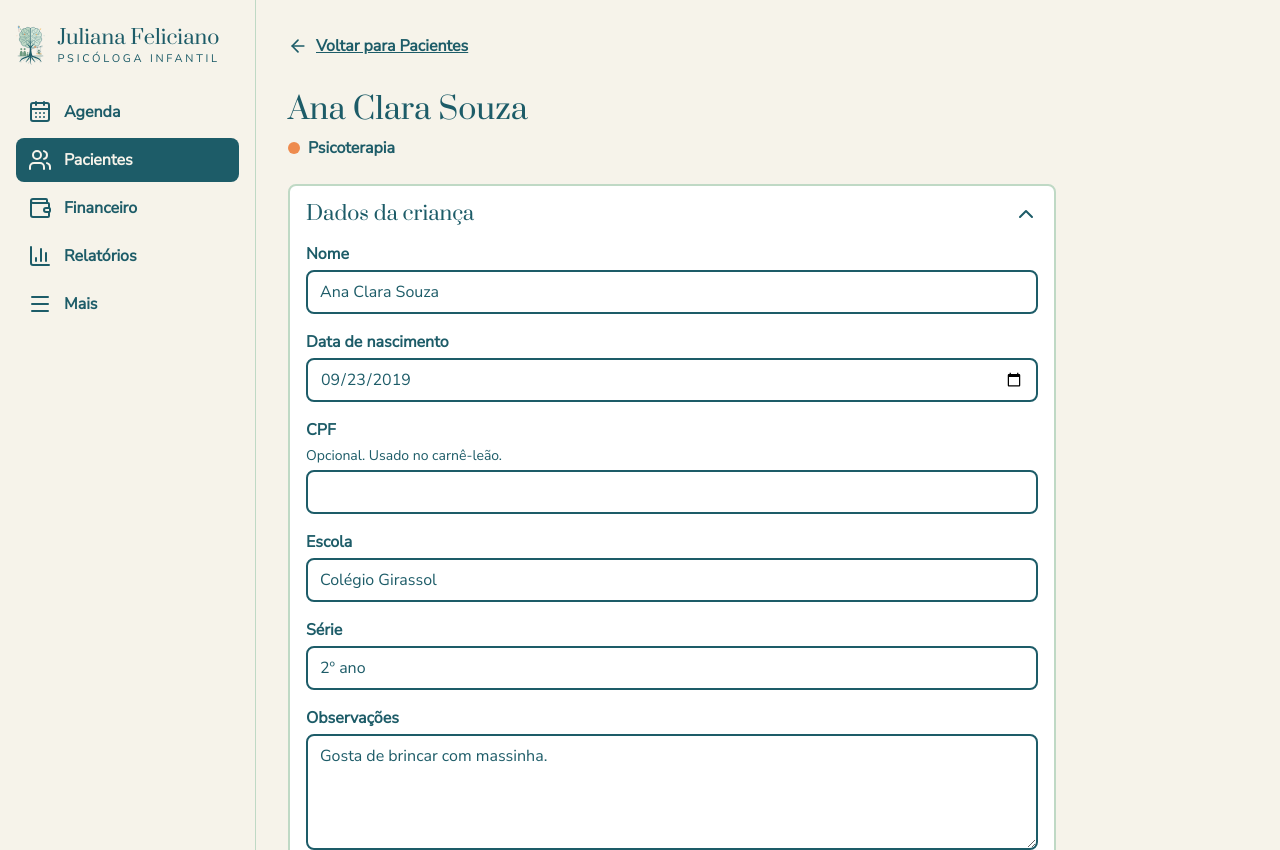
Test case: FichaPaciente — seções recolhíveis › o que foi digitado numa seção fechada não se perde
In the field labelled "Série": (672, 668) [306, 646, 1038, 690], type " B"
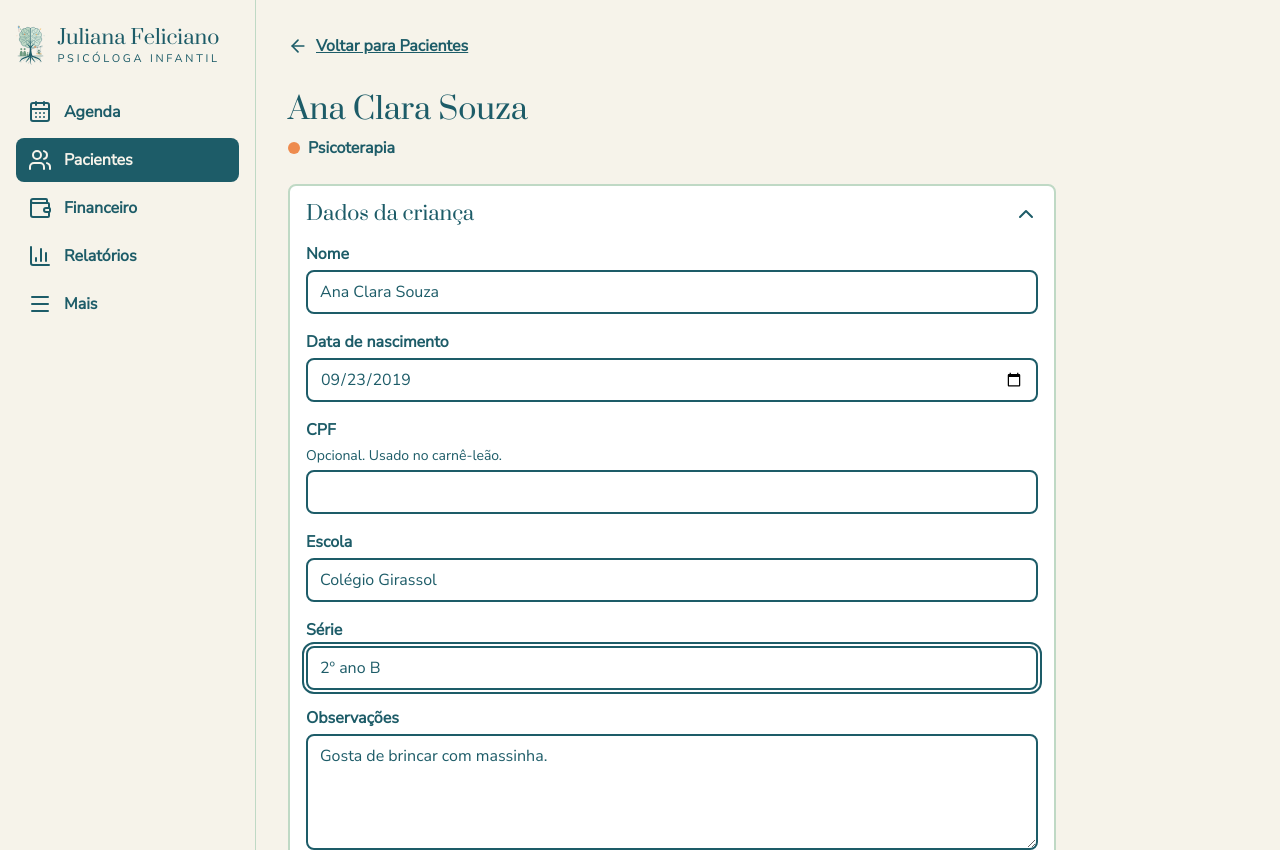
Click the button "Dados da criança": (390, 214) [290, 186, 1054, 242]
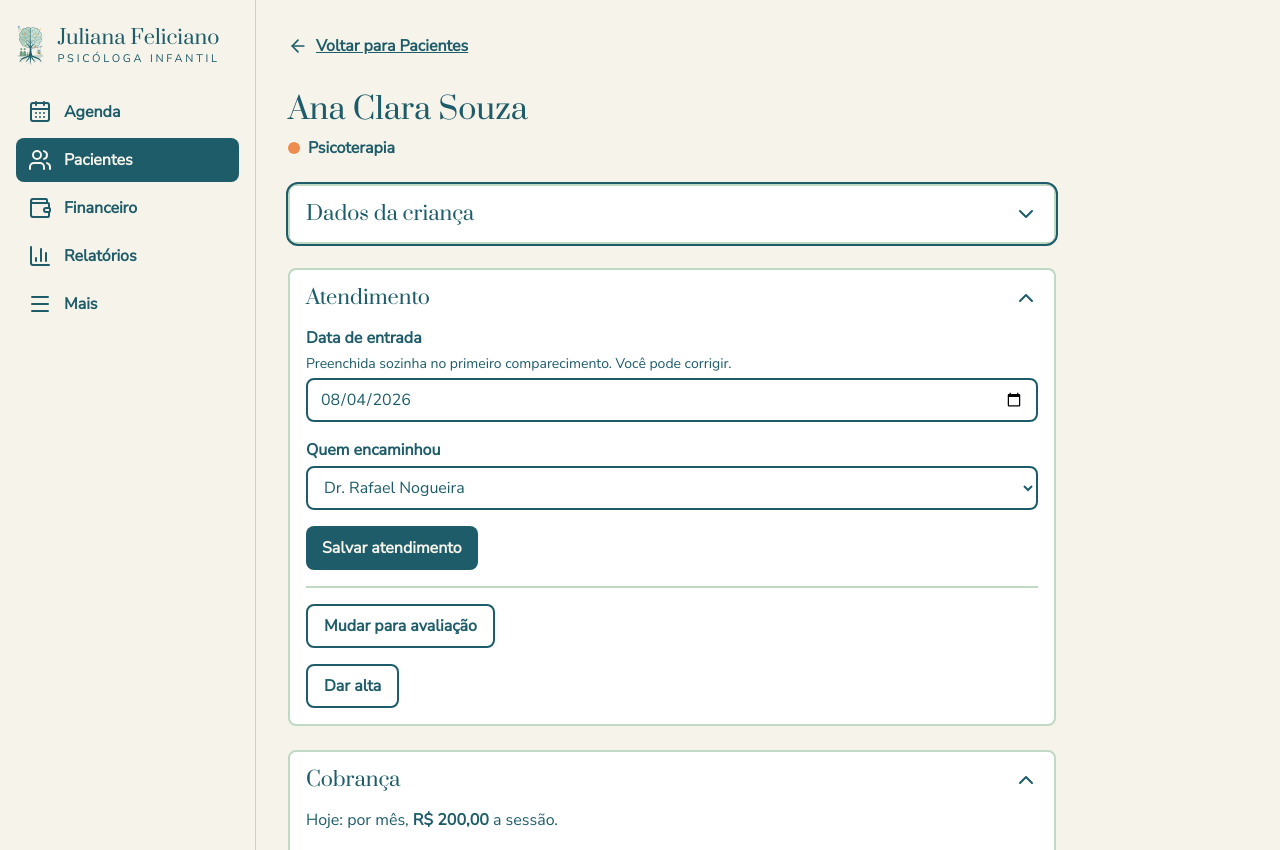
Click the button "Dados da criança": (390, 214) [290, 186, 1054, 242]
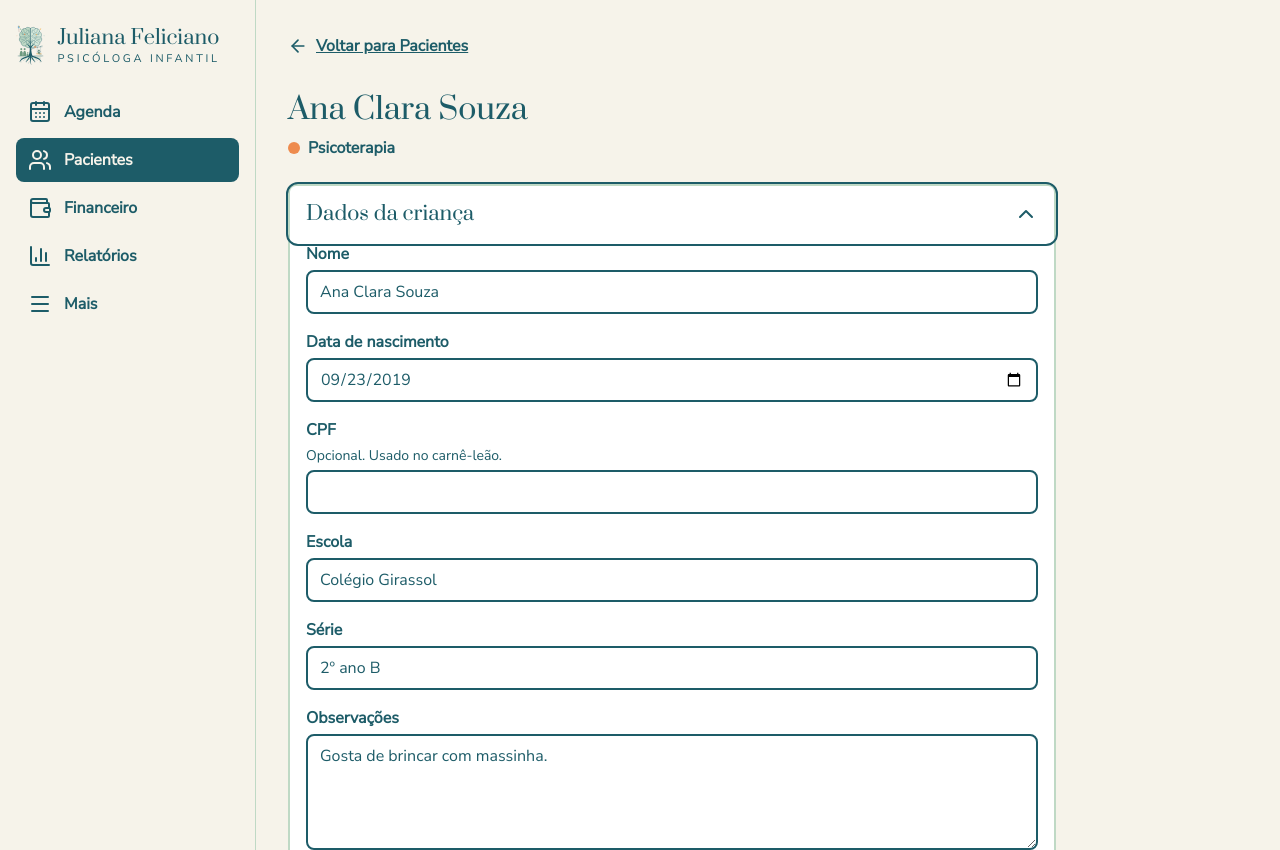
expect the field labelled "Série" holds "2º ano B": met, box [306, 646, 1038, 690]
